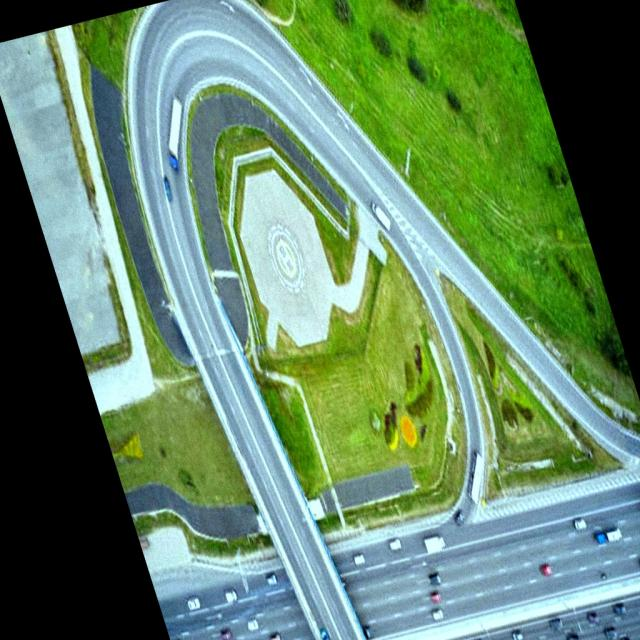helipad: (269, 228, 304, 288)
